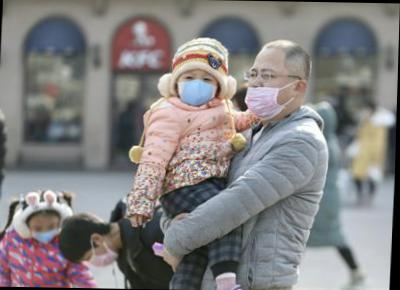OK: (178, 67, 221, 107), (83, 248, 123, 269), (33, 221, 62, 247)
WRONG: (246, 63, 286, 117)
